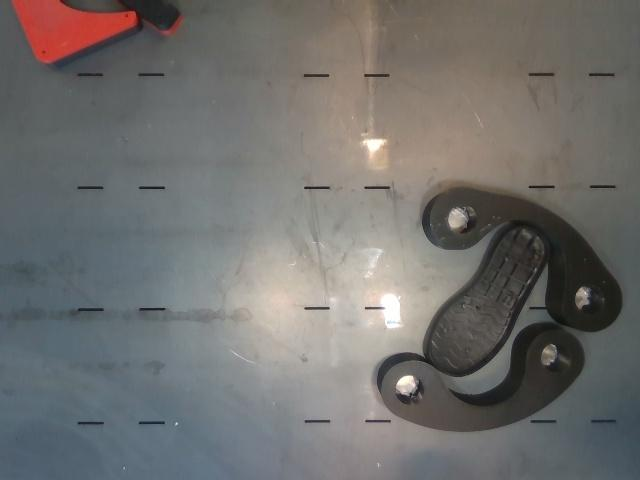shoes: (428, 227, 550, 375)
